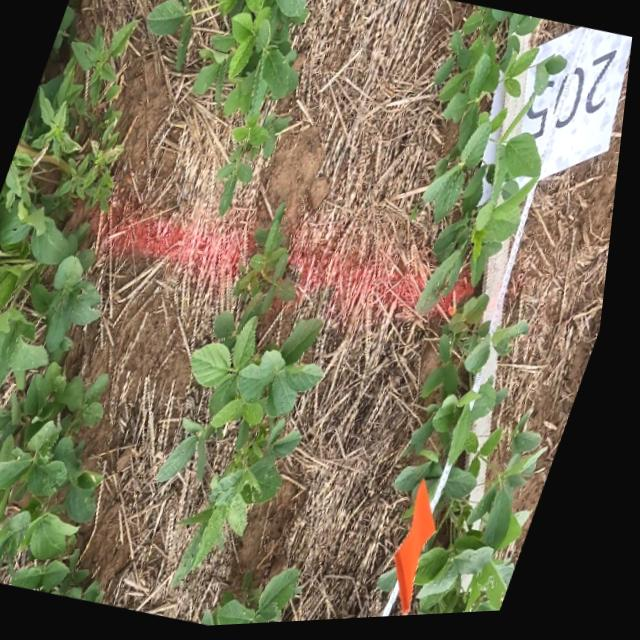caruru_weed: (19, 24, 135, 201), (9, 150, 37, 208)
soy_plant: (168, 208, 332, 584), (406, 299, 553, 620), (0, 242, 117, 604), (424, 11, 544, 318), (195, 0, 308, 217), (215, 571, 314, 629), (148, 0, 206, 67), (34, 208, 76, 265), (0, 200, 37, 251), (53, 6, 75, 50)
